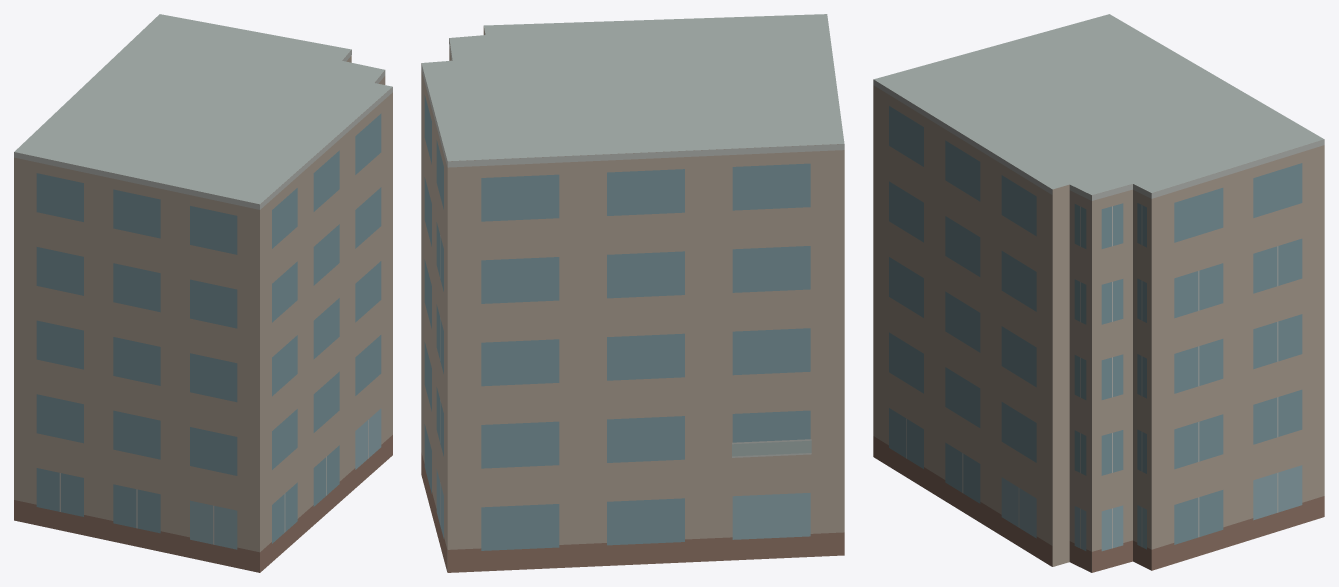
File: survey-upis-32852672.glb
3 renders of one model, left to right at view 1: azimuth 30°, elevation 25°; view 2: azimuth 150°, elevation 25°; view 3: azimuth 270°, elevation 25°, orthographic. The views are drawn at different scales.
Visible parts, largest first — view 1: survey-upis-32852672.tmp; view 2: survey-upis-32852672.tmp; view 3: survey-upis-32852672.tmp.
Part boxes in pixels (bbox=[...]): survey-upis-32852672.tmp: bbox=[14, 14, 392, 572]; survey-upis-32852672.tmp: bbox=[421, 14, 844, 572]; survey-upis-32852672.tmp: bbox=[873, 14, 1324, 572].
Size of the model in its own units: 16.48 by 16 by 17.33.
